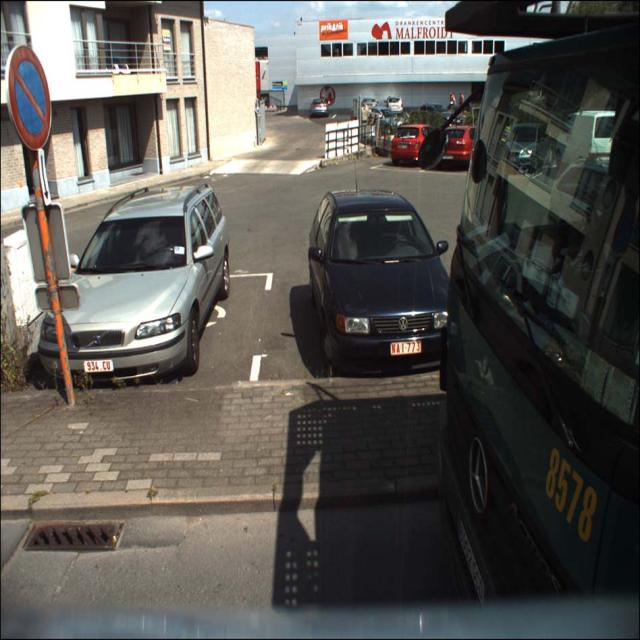parkyasak: (7, 46, 52, 150)
